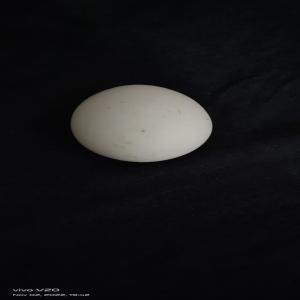Egg: (66, 84, 220, 163)
